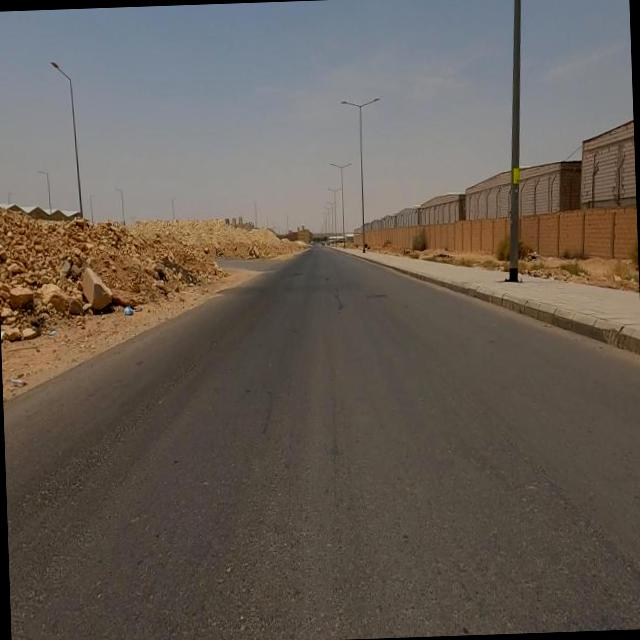debris: (1, 344, 51, 410), (103, 282, 146, 338), (34, 308, 71, 355)
